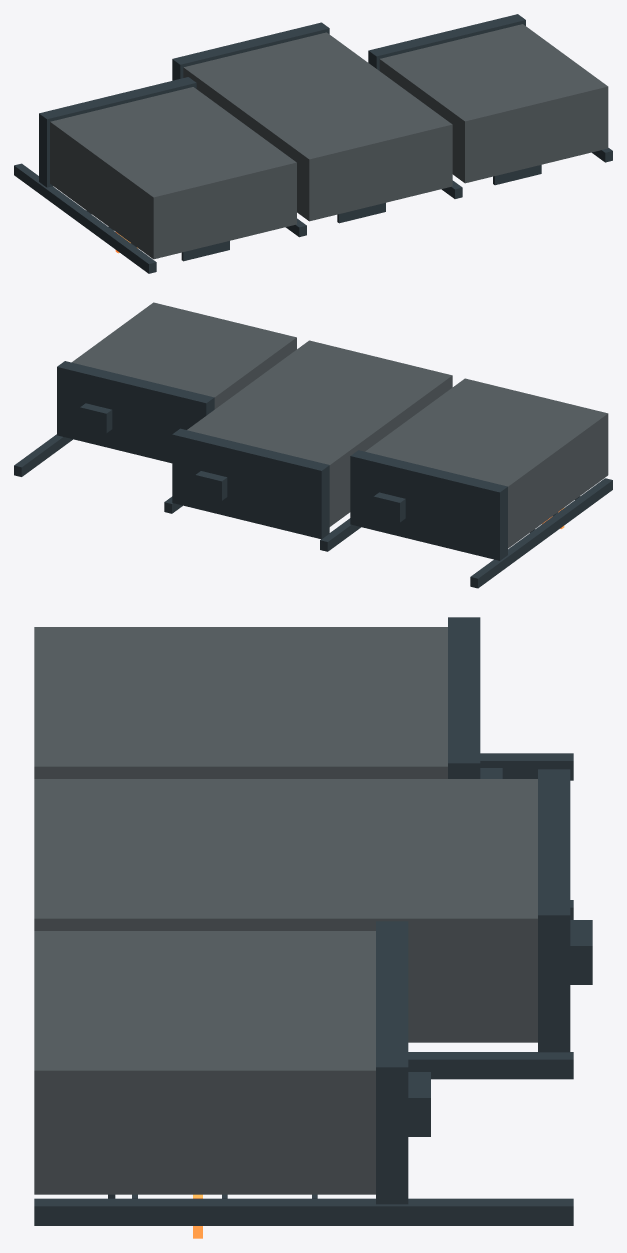
Rendered from rainline_streetfront_v1.glb.
The picture shows the model from 3 angles, top to bottom: view 1: azimuth 30°, elevation 25°; view 2: azimuth 150°, elevation 25°; view 3: azimuth 270°, elevation 25°; orthographic projection. The views are drawn at different scales.
Parts seen in each view (by area): view 1: BuildingShell, BuildingShell.001, BuildingShell.002, RoofParapet, StreetColumn, RoofParapet.001, RoofParapet.002, EntryCanopy.001, EntryCanopy.002, EntryCanopy; view 2: BuildingShell, BuildingShell.001, BuildingShell.002, RoofParapet.001, RoofParapet, RoofParapet.002, StreetColumn, StreetColumn.003, RoofPlant, RoofPlant.001, RoofPlant.002, StreetColumn.001; view 3: BuildingShell.001, BuildingShell.002, BuildingShell, StreetColumn.003, RoofParapet.001, RoofParapet.002, RoofParapet, StreetColumn.002, StreetColumn, RoofPlant.001, RoofPlant.002.
Boxes of the visible parts, box(x1,y1,x2,y2) form: BuildingShell: box(50, 87, 296, 259); BuildingShell.001: box(183, 32, 452, 221); BuildingShell.002: box(379, 24, 608, 183); RoofParapet: box(39, 77, 196, 187); StreetColumn: box(14, 163, 156, 273); RoofParapet.001: box(172, 22, 329, 80); RoofParapet.002: box(368, 14, 525, 70); EntryCanopy.001: box(337, 203, 385, 223); EntryCanopy.002: box(493, 165, 541, 185); EntryCanopy: box(181, 241, 229, 261); BuildingShell: box(365, 378, 608, 548); BuildingShell.001: box(187, 340, 452, 526); BuildingShell.002: box(71, 302, 296, 409); RoofParapet.001: box(172, 428, 329, 539); RoofParapet: box(350, 450, 507, 560); RoofParapet.002: box(57, 361, 214, 463); StreetColumn: box(470, 478, 612, 588); StreetColumn.003: box(14, 434, 72, 476); RoofPlant: box(373, 492, 405, 522); RoofPlant.001: box(195, 471, 227, 500); RoofPlant.002: box(80, 403, 112, 433); StreetColumn.001: box(320, 518, 360, 551); BuildingShell.001: box(34, 779, 537, 1042); BuildingShell.002: box(34, 931, 375, 1194); BuildingShell: box(34, 627, 447, 778); StreetColumn.003: box(34, 1198, 573, 1225); RoofParapet.001: box(538, 769, 570, 1052); RoofParapet.002: box(376, 921, 408, 1204); RoofParapet: box(448, 617, 480, 778); StreetColumn.002: box(408, 1052, 573, 1079); StreetColumn: box(480, 753, 573, 780); RoofPlant.001: box(570, 920, 592, 984); RoofPlant.002: box(408, 1072, 430, 1136).
Size of the model in its own units: 29.8 by 5.67 by 15.52.
